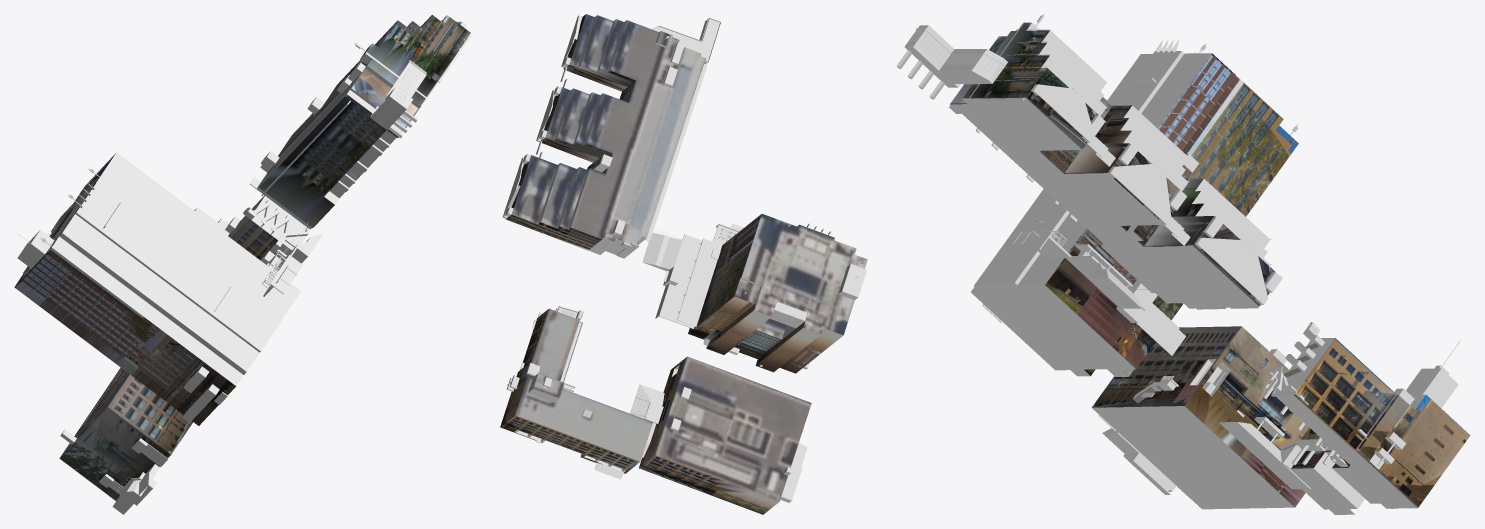
File: 9987_bldg_Building.glb
3 views of the same model, side by side, from view 1: azimuth 30°, elevation 25°; view 2: azimuth 150°, elevation 25°; view 3: azimuth 270°, elevation 25° (orthographic). The views are drawn at different scales.
Bounding box in the file's own units: 143 × 167 × 141.
9 materials, 8 textured.
